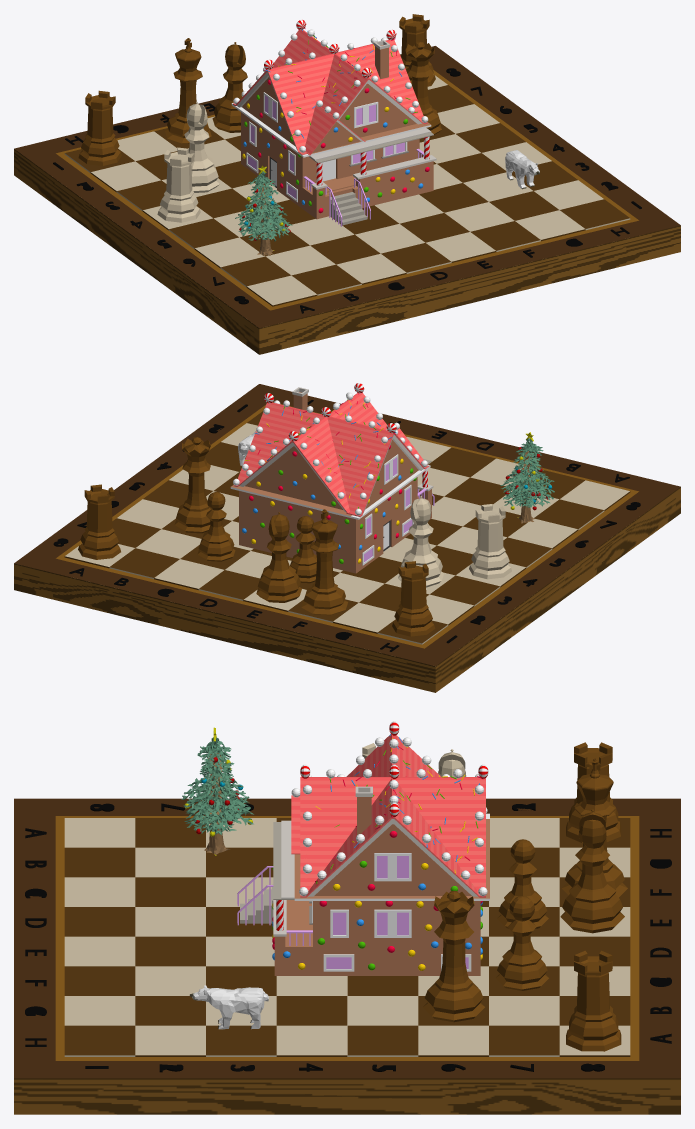
3 views of the same model, one above another, from view 1: azimuth 30°, elevation 25°; view 2: azimuth 150°, elevation 25°; view 3: azimuth 270°, elevation 25° (orthographic). The views are drawn at different scales.
Visible parts, largest first — view 1: Cube.002, Cube.1203, OBJRANDOM_CHRISTMAS_TREE, ANIMAL_OSO_POLAR; view 2: Cube.002, Cube.1203, OBJRANDOM_CHRISTMAS_TREE; view 3: Cube.002, Cube.1203, OBJRANDOM_CHRISTMAS_TREE, ANIMAL_OSO_POLAR.
Part boxes in pixels (bbox=[...]): Cube.002: bbox=[14, 14, 680, 354]; Cube.1203: bbox=[231, 19, 436, 226]; OBJRANDOM_CHRISTMAS_TREE: bbox=[235, 165, 292, 255]; ANIMAL_OSO_POLAR: bbox=[505, 150, 539, 189]; Cube.002: bbox=[14, 384, 680, 692]; Cube.1203: bbox=[230, 383, 434, 573]; OBJRANDOM_CHRISTMAS_TREE: bbox=[500, 432, 554, 523]; Cube.002: bbox=[14, 742, 680, 1114]; Cube.1203: bbox=[237, 721, 489, 975]; OBJRANDOM_CHRISTMAS_TREE: bbox=[181, 727, 254, 855]; ANIMAL_OSO_POLAR: bbox=[189, 985, 268, 1029].
Bounding box in the file's own units: 3981 × 1436 × 4012.
34 materials, 4 textured.
